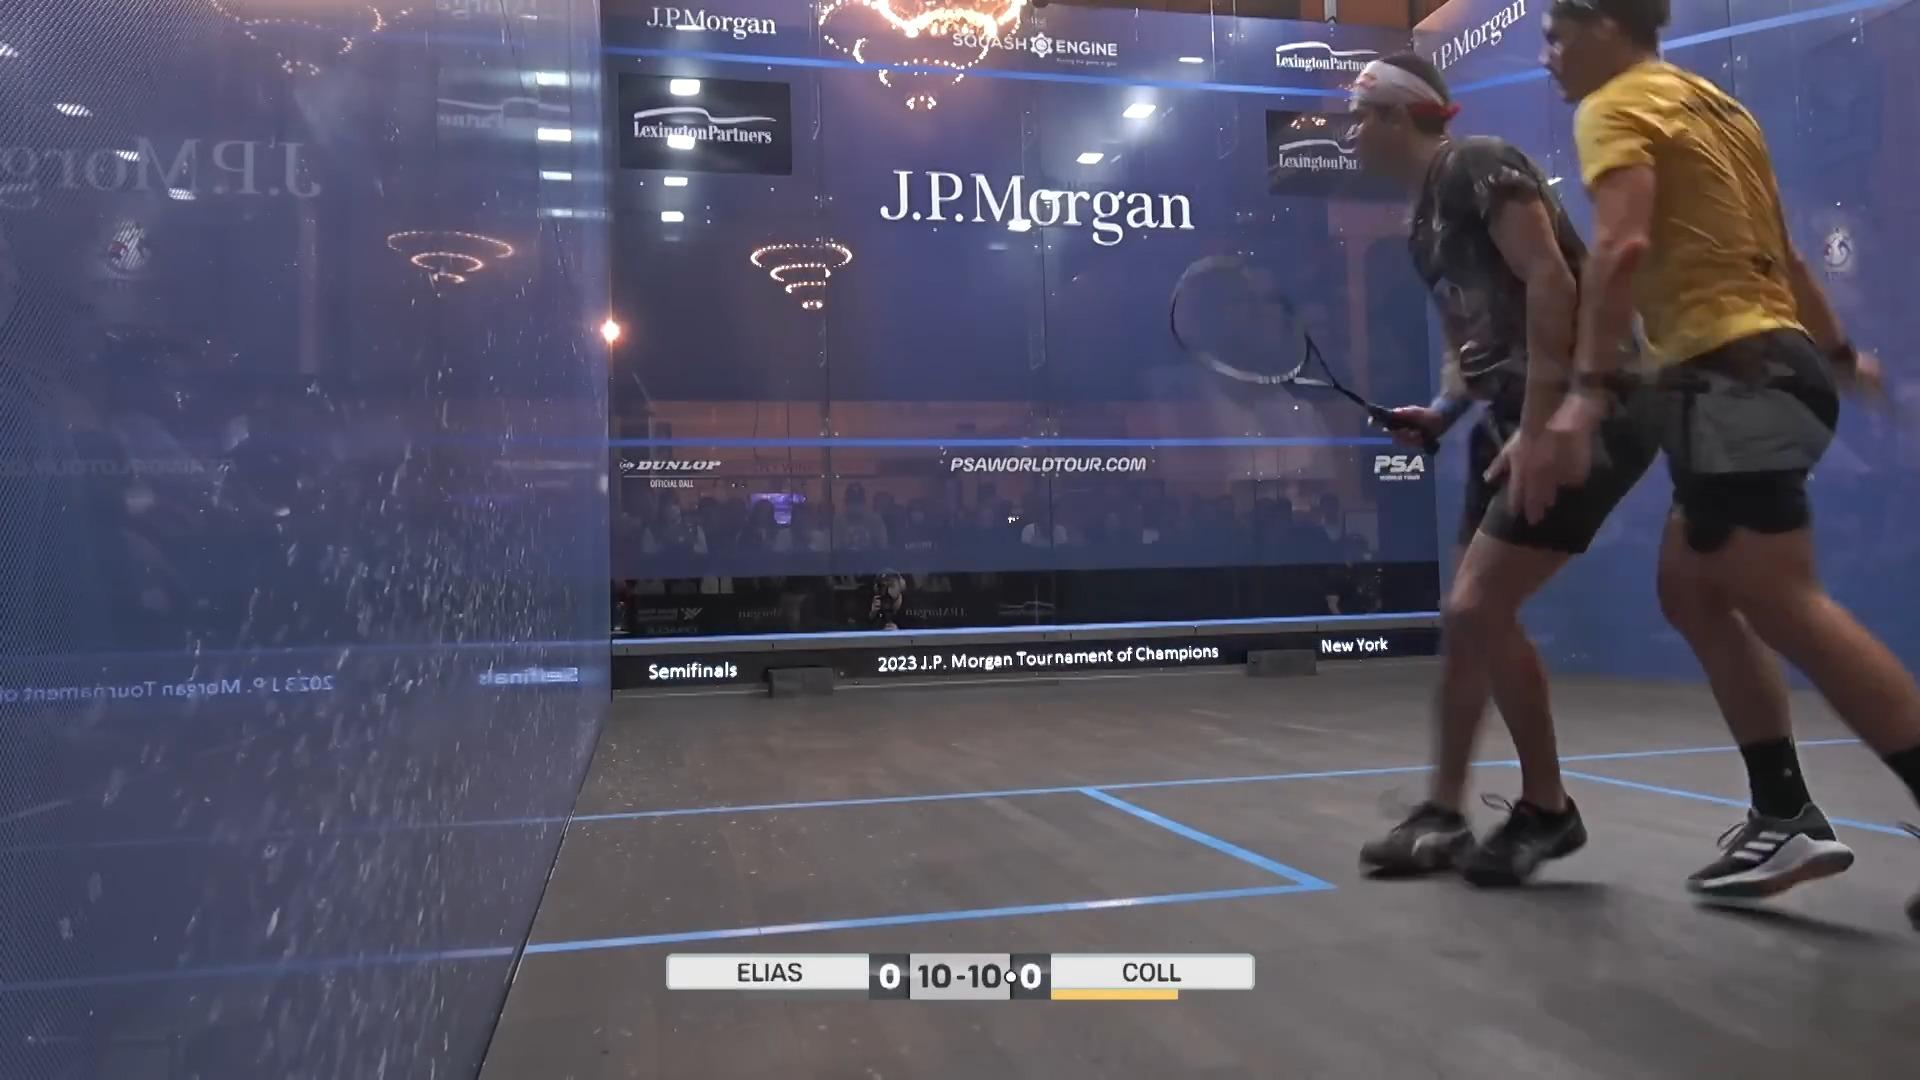Racket: (1160, 247, 1396, 435)
